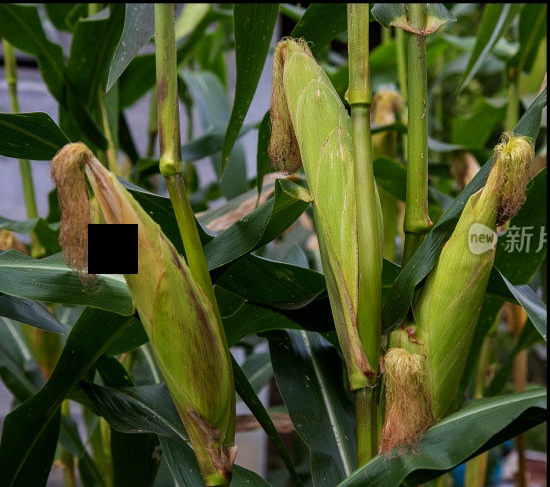corn_plant: (38, 137, 236, 477), (389, 126, 532, 450), (263, 41, 385, 388)
